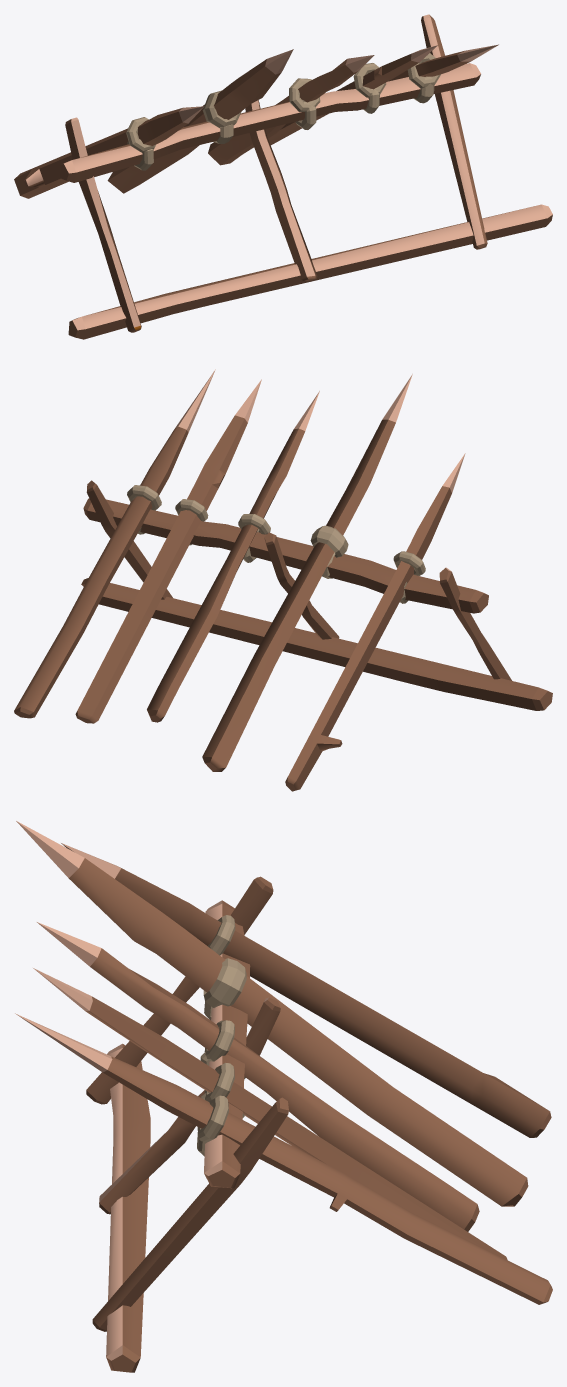
Rendered from old_block.fbx.
3 views of the same model, one above another, from view 1: azimuth 30°, elevation 25°; view 2: azimuth 150°, elevation 25°; view 3: azimuth 270°, elevation 25° (orthographic). The views are drawn at different scales.
Visible parts, largest first — view 1: pCube1, pCube5, pCube7, pCube4, pCube6, pCube3, pCube2, pCube8, pCube9, pCube10, pTorus3, pTorus6 (+3 smaller); view 2: pCube1, pCube7, pCube9, pCube10, pCube5, pCube6, pCube8, pCube3, pCube2, pCube4, pTorus3; view 3: pCube7, pCube6, pCube10, pCube8, pCube1, pCube9, pCube4, pCube5, pCube2, pCube3, pTorus3, pTorus10 (+1 smaller).
Boxes of the visible parts, x1=… form: pCube1: x1=68, y1=204, x2=552, y2=339; pCube5: x1=60, y1=63, x2=480, y2=182; pCube7: x1=107, y1=49, x2=293, y2=193; pCube4: x1=421, y1=14, x2=487, y2=249; pCube6: x1=14, y1=106, x2=204, y2=198; pCube3: x1=65, y1=117, x2=141, y2=332; pCube2: x1=245, y1=100, x2=317, y2=280; pCube8: x1=208, y1=55, x2=374, y2=165; pCube9: x1=268, y1=45, x2=437, y2=145; pCube10: x1=388, y1=44, x2=498, y2=81; pTorus3: x1=202, y1=90, x2=241, y2=128; pTorus6: x1=289, y1=78, x2=320, y2=111; pCube1: x1=99, y1=583, x2=552, y2=710; pCube7: x1=202, y1=374, x2=412, y2=771; pCube9: x1=75, y1=379, x2=261, y2=723; pCube10: x1=14, y1=369, x2=215, y2=718; pCube5: x1=83, y1=498, x2=488, y2=613; pCube6: x1=285, y1=453, x2=465, y2=791; pCube8: x1=147, y1=391, x2=319, y2=722; pCube3: x1=439, y1=567, x2=511, y2=680; pCube2: x1=264, y1=532, x2=339, y2=639; pCube4: x1=86, y1=480, x2=172, y2=599; pTorus3: x1=310, y1=525, x2=348, y2=557; pCube7: x1=16, y1=821, x2=528, y2=1206; pCube6: x1=61, y1=843, x2=551, y2=1137; pCube10: x1=15, y1=1013, x2=552, y2=1304; pCube8: x1=37, y1=922, x2=479, y2=1231; pCube1: x1=106, y1=1043, x2=150, y2=1372; pCube9: x1=33, y1=968, x2=507, y2=1259; pCube4: x1=92, y1=1097, x2=288, y2=1331; pCube5: x1=204, y1=900, x2=250, y2=1188; pCube2: x1=99, y1=997, x2=280, y2=1214; pCube3: x1=86, y1=876, x2=273, y2=1104; pTorus3: x1=203, y1=958, x2=246, y2=1007; pTorus10: x1=197, y1=1095, x2=228, y2=1141.
Bounding box in the file's own units: 3.25 × 1.84 × 2.4.
